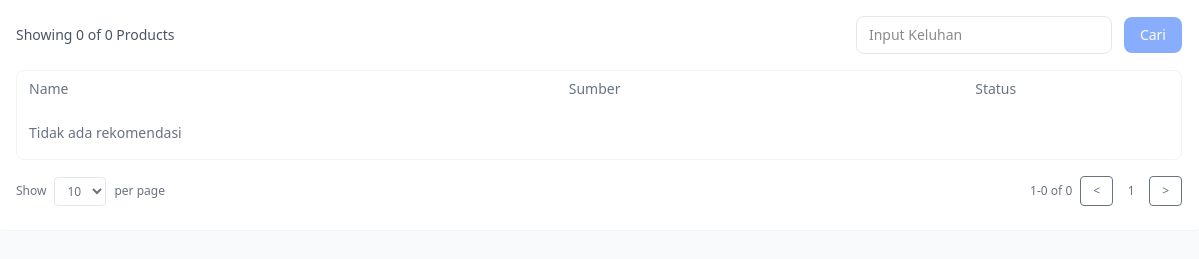
Test case: substitutions module › handles search error with no error field
The image size is (1199, 259).
Type "demam" into the field with placeholder "Input Keluhan". click: coordinates (984, 35)
box: [856,16,1112,54]
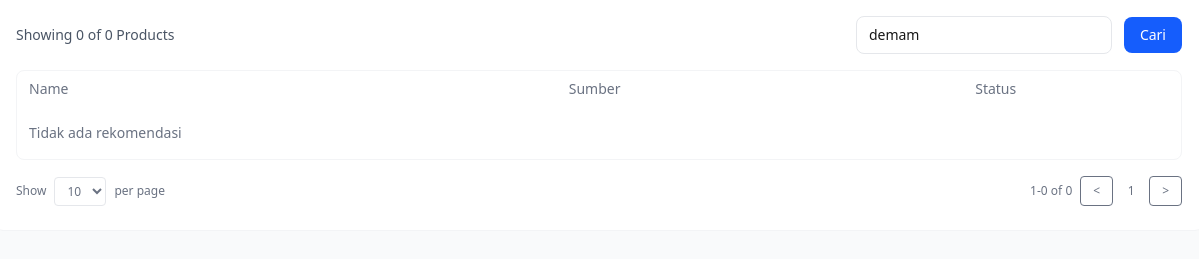
Click the button "Cari". click: coordinates (1153, 35)
box: [1124,17,1182,53]
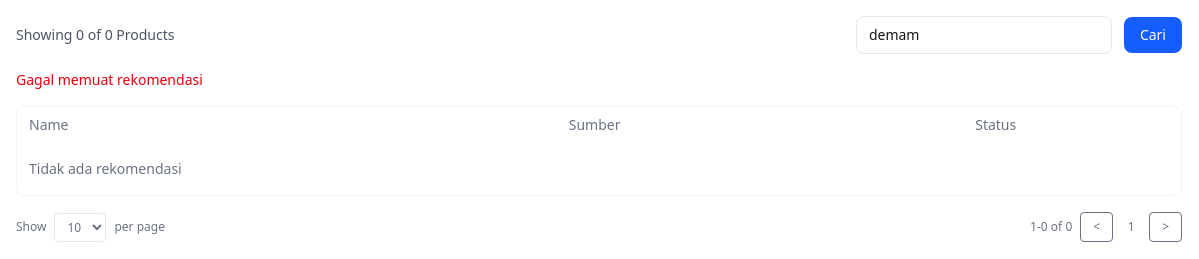
Expected: the text "Gagal memuat rekomendasi" is shown, [16,70,203,89]
